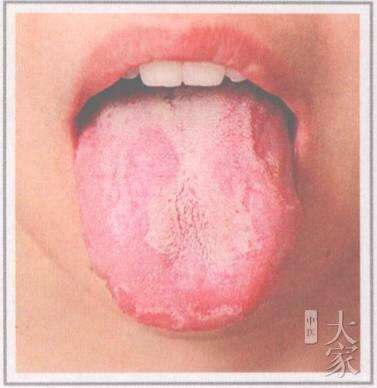baitaishe: (74, 84, 302, 332)
botaishe: (245, 101, 301, 212)
hongshe: (74, 84, 302, 332)
zishe: (74, 84, 302, 332)
